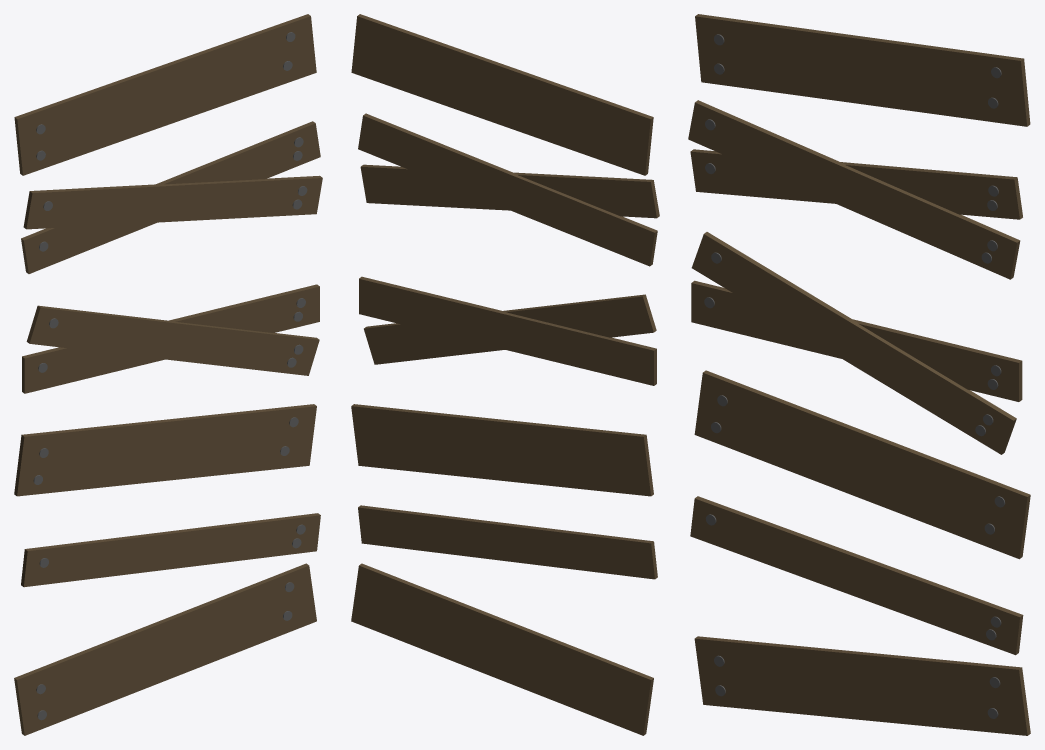
Rendered from WoodenBoards.fbx.
3 renders of one model, left to right at view 1: azimuth 30°, elevation 25°; view 2: azimuth 150°, elevation 25°; view 3: azimuth 330°, elevation 25°, orthographic. The views are drawn at different scales.
Visible parts, largest first — view 1: BoardLarge, BoardLarge1, BoardLarge2, BoardSma_ll, BoardSma_ll4, BoardSma_ll2, BoardSma_ll3, BoardSma_ll1; view 2: BoardLarge, BoardLarge1, BoardLarge2, BoardSma_ll3, BoardSma_ll1, BoardSma_ll, BoardSma_ll4, BoardSma_ll2; view 3: BoardLarge2, BoardLarge1, BoardLarge, BoardSma_ll2, BoardSma_ll, BoardSma_ll4, BoardSma_ll1, BoardSma_ll3.
Part boxes in pixels (x1=…): BoardLarge: x1=14, y1=563, x2=316, y2=735; BoardLarge1: x1=14, y1=14, x2=316, y2=175; BoardLarge2: x1=14, y1=404, x2=316, y2=496; BoardSma_ll: x1=21, y1=513, x2=320, y2=587; BoardSma_ll4: x1=23, y1=175, x2=322, y2=229; BoardSma_ll2: x1=26, y1=305, x2=319, y2=375; BoardSma_ll3: x1=21, y1=121, x2=320, y2=273; BoardSma_ll1: x1=22, y1=284, x2=319, y2=393; BoardLarge: x1=351, y1=563, x2=653, y2=735; BoardLarge1: x1=351, y1=14, x2=653, y2=175; BoardLarge2: x1=351, y1=404, x2=653, y2=496; BoardSma_ll3: x1=358, y1=113, x2=657, y2=266; BoardSma_ll1: x1=359, y1=276, x2=656, y2=385; BoardSma_ll: x1=358, y1=505, x2=657, y2=579; BoardSma_ll4: x1=360, y1=164, x2=659, y2=218; BoardSma_ll2: x1=364, y1=294, x2=656, y2=364; BoardLarge2: x1=694, y1=370, x2=1030, y2=559; BoardLarge1: x1=695, y1=14, x2=1030, y2=126; BoardLarge: x1=694, y1=636, x2=1030, y2=735; BoardSma_ll2: x1=691, y1=232, x2=1016, y2=454; BoardSma_ll: x1=690, y1=496, x2=1023, y2=655; BoardSma_ll4: x1=688, y1=100, x2=1020, y2=279; BoardSma_ll1: x1=691, y1=280, x2=1022, y2=401; BoardSma_ll3: x1=690, y1=149, x2=1022, y2=219.
Bounding box in the file's own units: 120 × 248 × 8.13.
